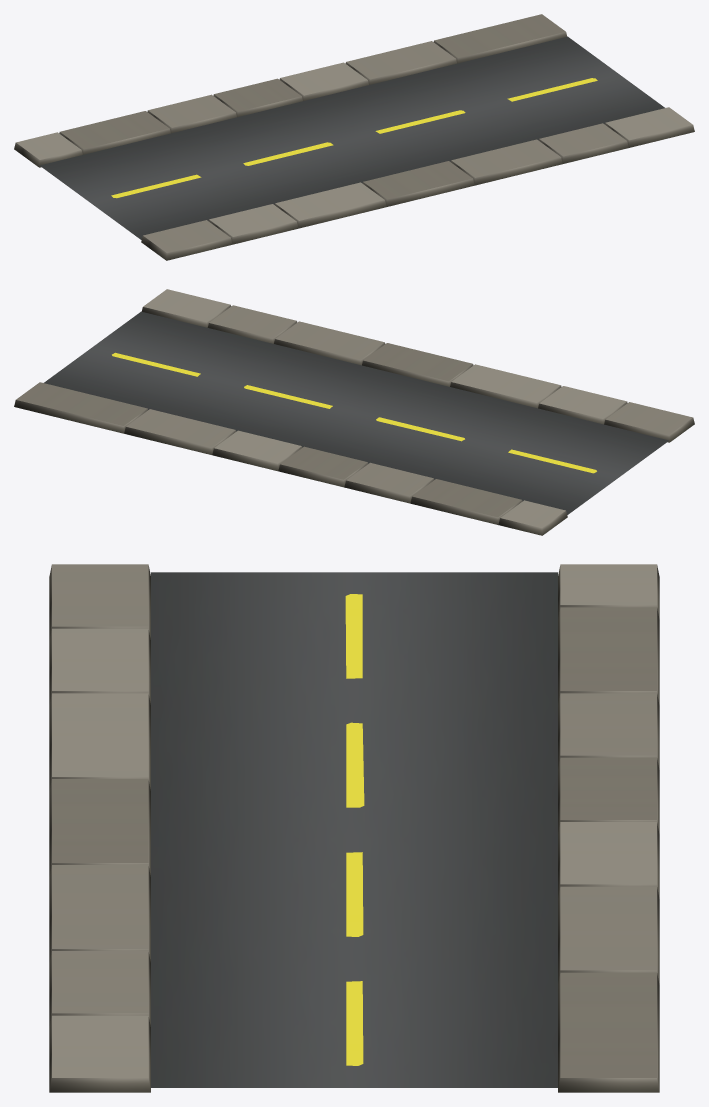
The model's file is Road_3A_X2.fbx.
The picture shows the model from 3 angles, top to bottom: view 1: azimuth 30°, elevation 25°; view 2: azimuth 150°, elevation 25°; view 3: azimuth 270°, elevation 25°; orthographic projection. The views are drawn at different scales.
Parts seen in each view (by area): view 1: Road_3A_X2; view 2: Road_3A_X2; view 3: Road_3A_X2.
Part boxes in pixels (x1=…): Road_3A_X2: x1=14, y1=14, x2=694, y2=260; Road_3A_X2: x1=14, y1=289, x2=694, y2=535; Road_3A_X2: x1=49, y1=564, x2=659, y2=1092.
Size of the model in its own units: 2400 by 30 by 1200.
